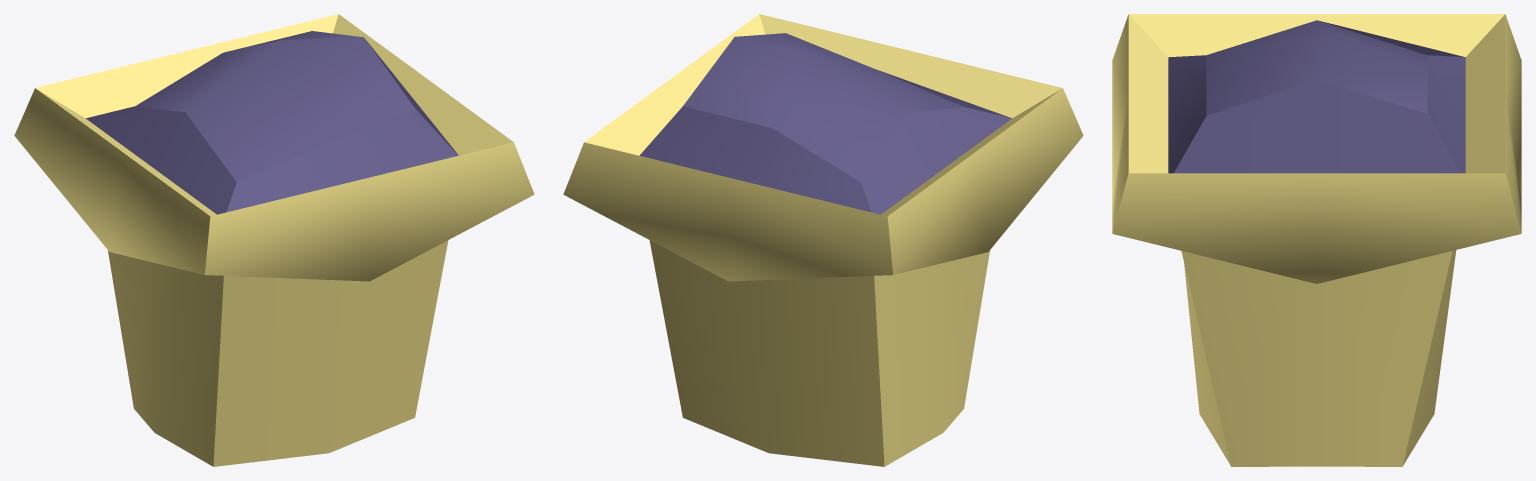
Rendered from Fertilizer_Blue.fbx.
3 renders of one model, left to right at view 1: azimuth 30°, elevation 25°; view 2: azimuth 150°, elevation 25°; view 3: azimuth 270°, elevation 25°, orthographic. The views are drawn at different scales.
Parts seen in each view (by area): view 1: Fertilizer_Blue; view 2: Fertilizer_Blue; view 3: Fertilizer_Blue.
Boxes of the visible parts, <box> form: Fertilizer_Blue: <box>14,14,534,466</box>; Fertilizer_Blue: <box>563,14,1083,466</box>; Fertilizer_Blue: <box>1112,14,1521,466</box>.
Size of the model in its own units: 3.34 by 3.51 by 3.34.
